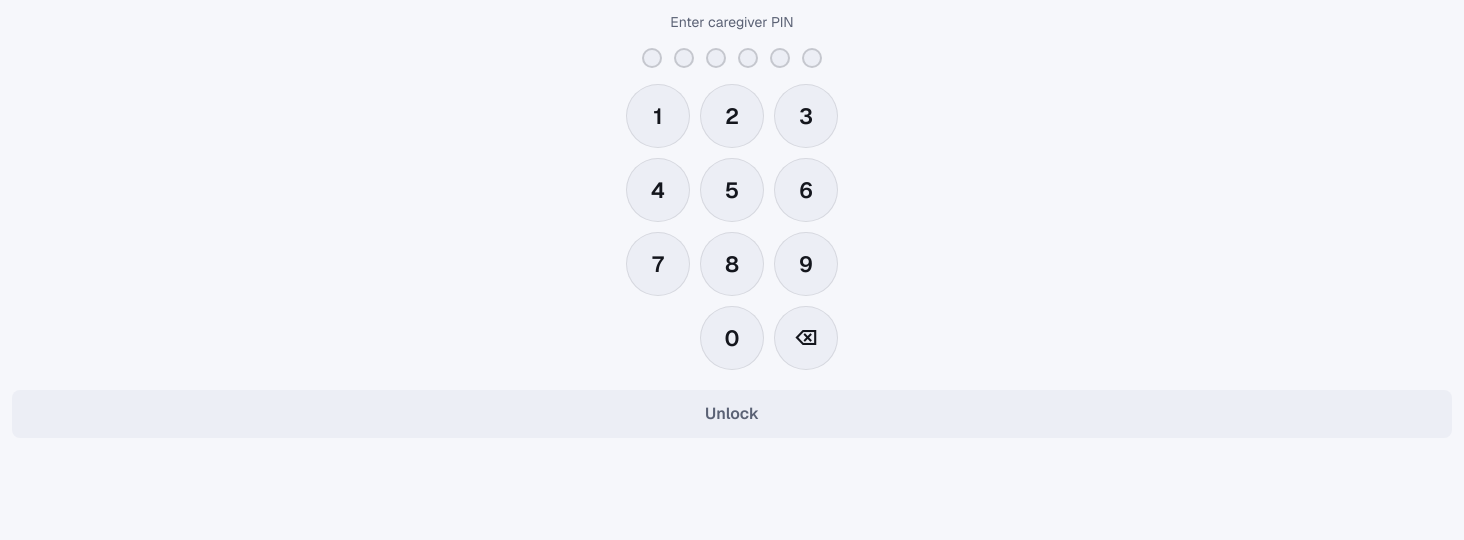
Scenario: PinPad — brute-force lockout › locks after 5 failed attempts
The image size is (1464, 540).
Step 1. Click the button "1" → (658, 116), box [626, 84, 690, 148]
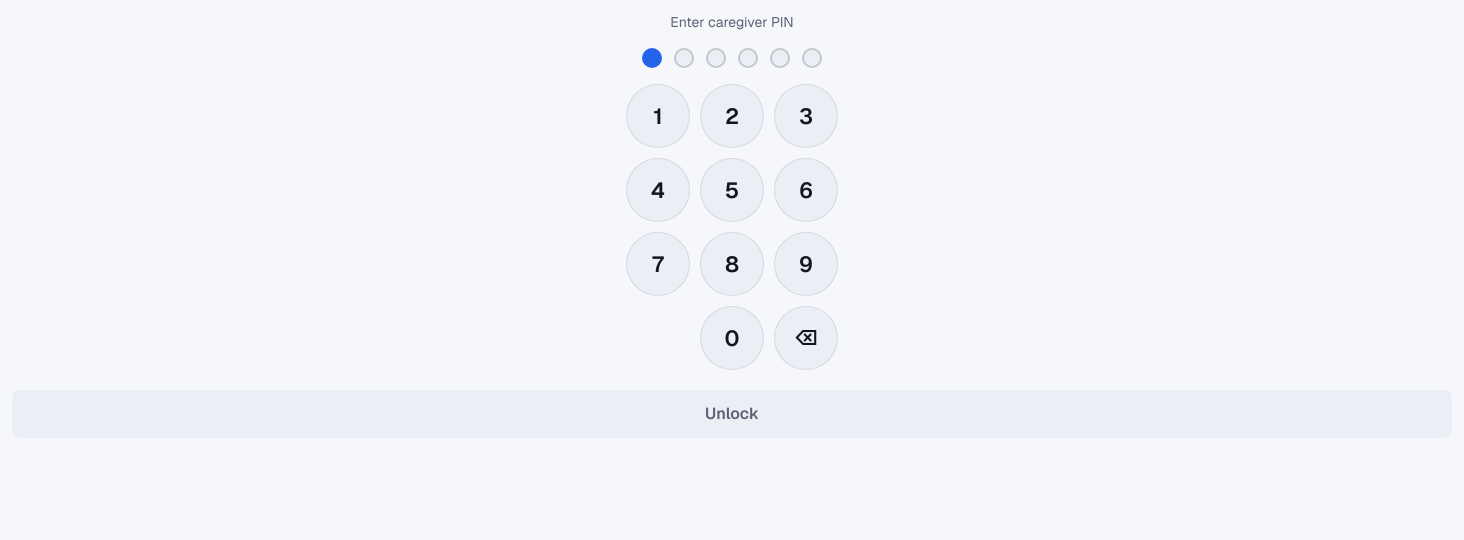
Step 2. Click the button "2" → (732, 116), box [700, 84, 764, 148]
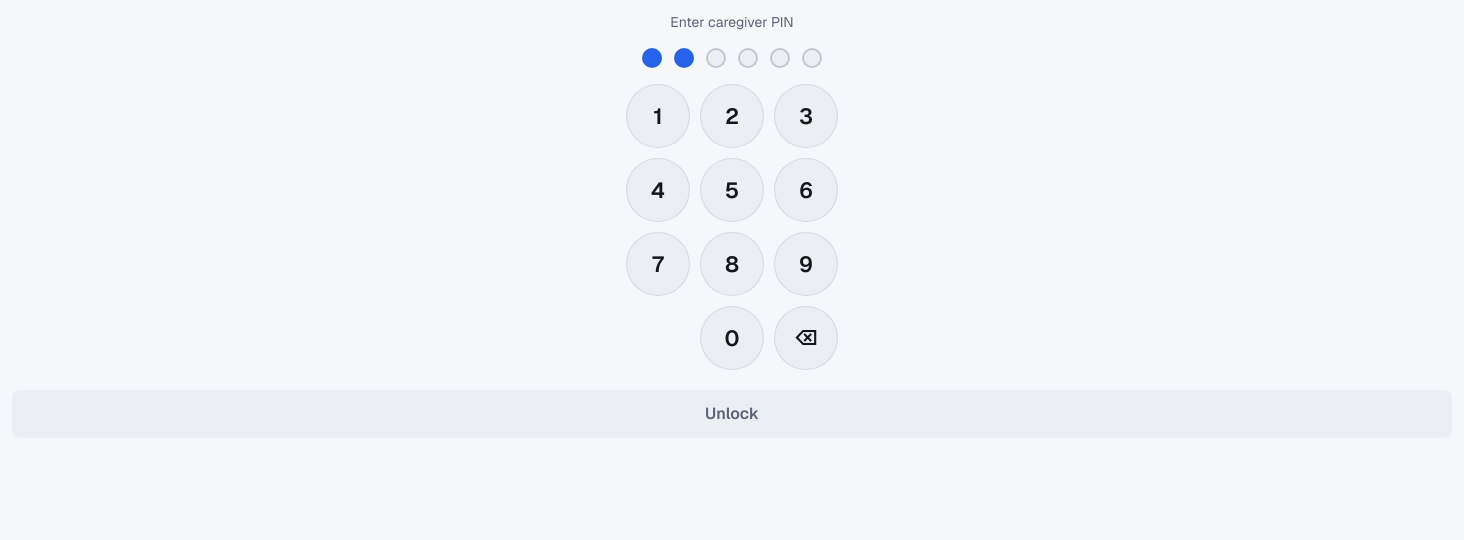
Step 3. Click the button "3" → (806, 116), box [774, 84, 838, 148]
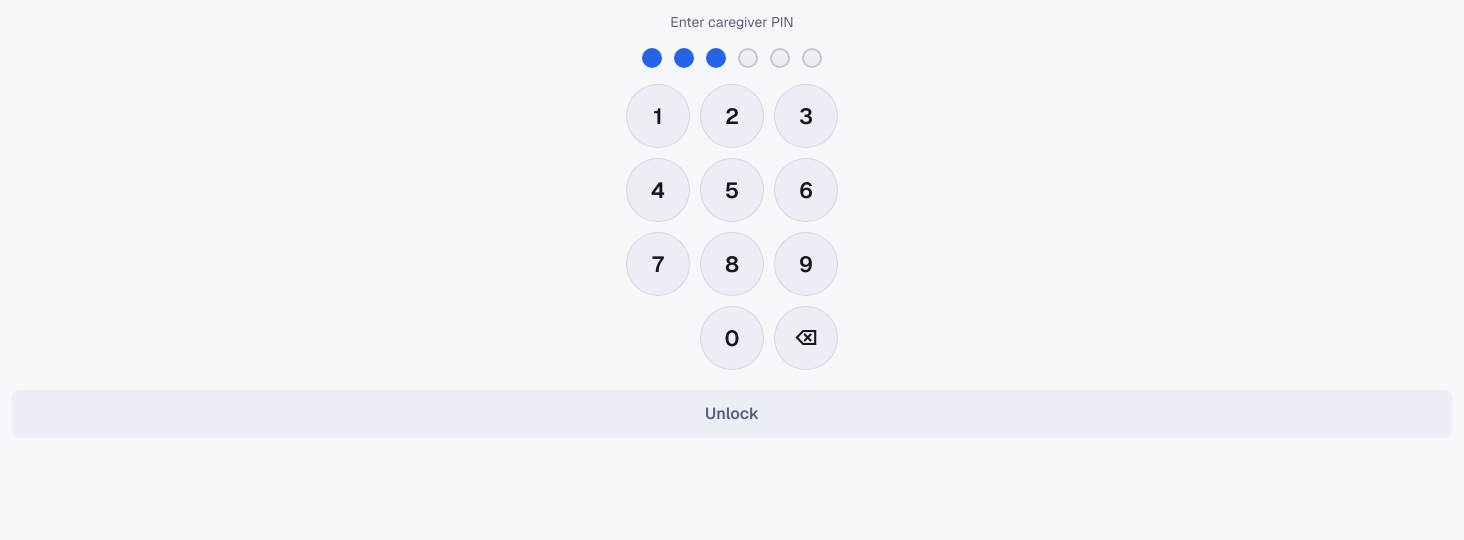
Step 4. Click the button "4" → (658, 190), box [626, 158, 690, 222]
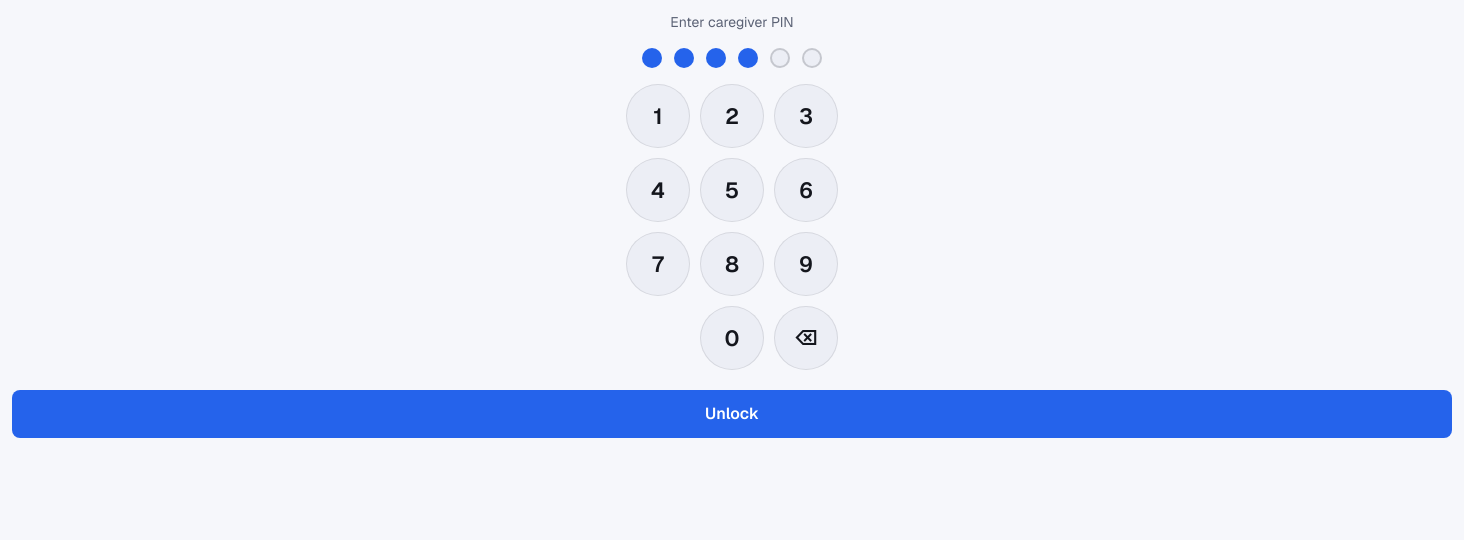
Step 5. Click the button "Unlock" → (732, 414), box [12, 390, 1452, 438]
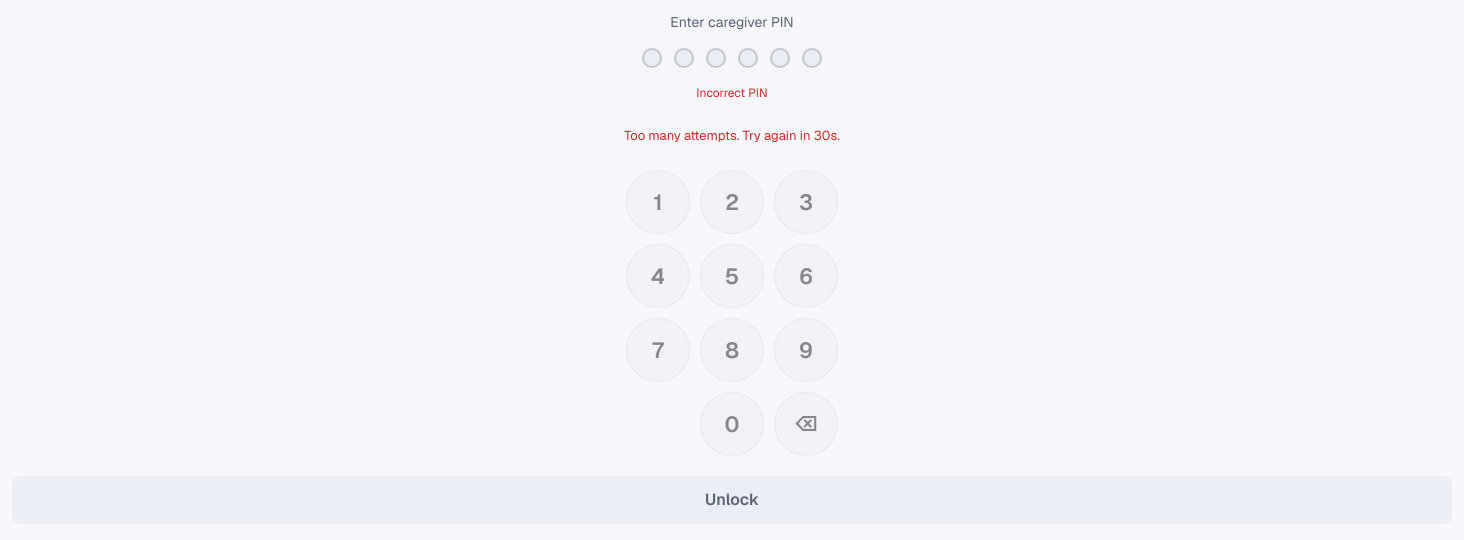
Expected: the text "Too many attempts. Try again in 30s." is shown, [624, 127, 840, 144]
Expected: the button "Unlock" is disabled, [12, 476, 1452, 524]
